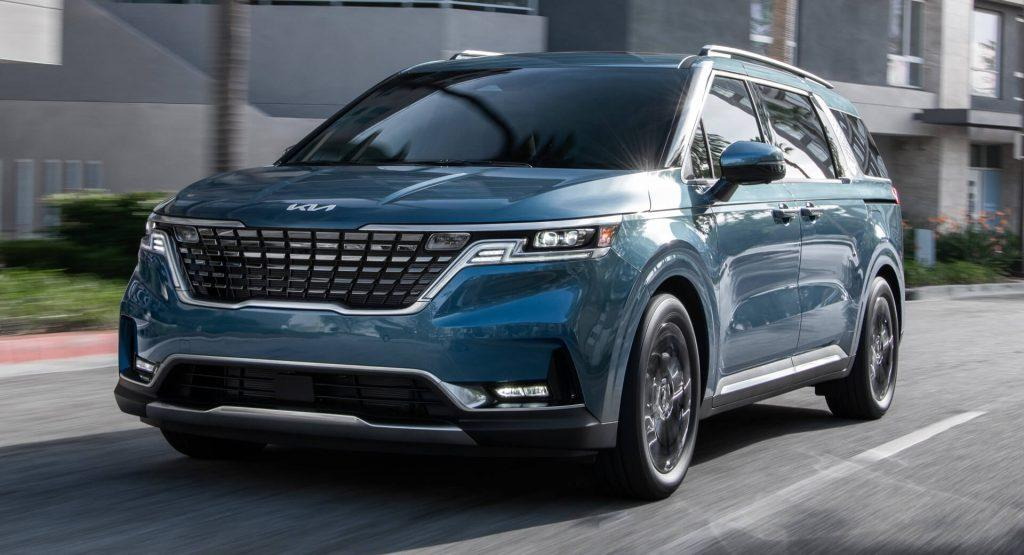car: (122, 47, 911, 499)
